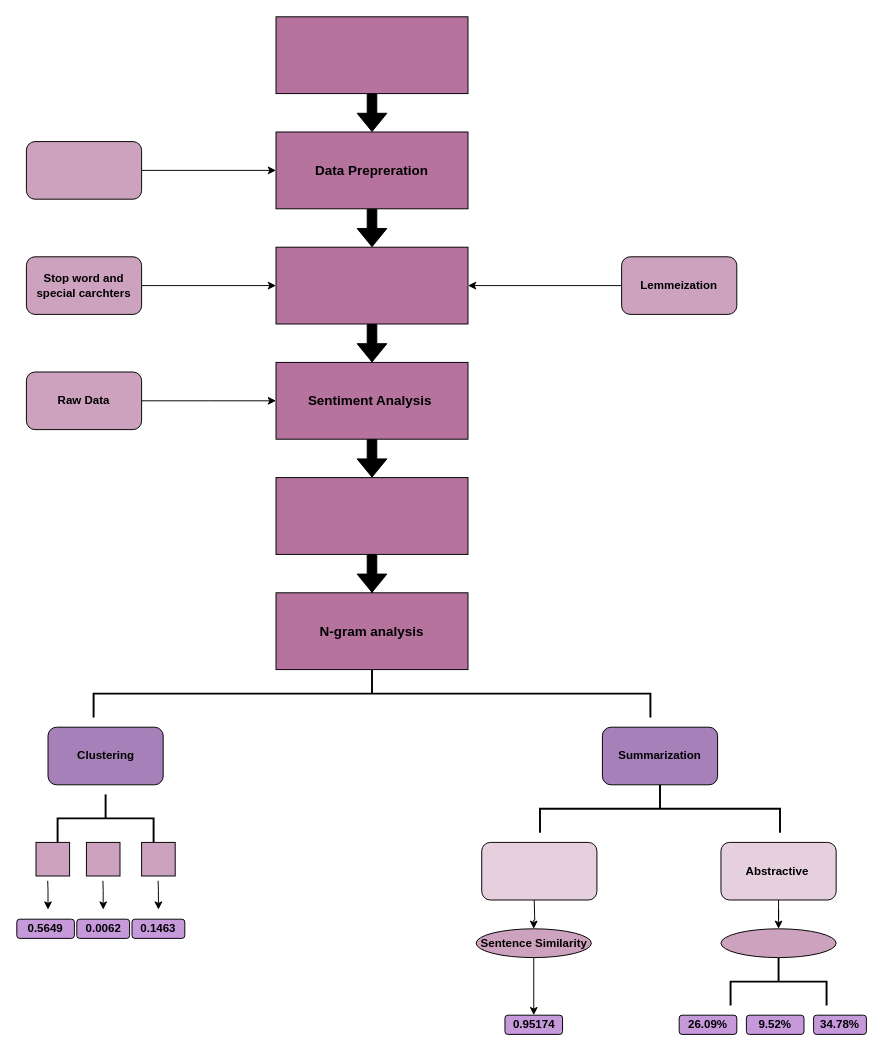
This 883x1051 diagram has some shape labels left out. The shapes that lost their labels are listed below. From the top down, each one's box as (x1, y1, x2, y2) in pixels, then its label:
(275, 16, 468, 94): Articles
(25, 141, 142, 199): URLS
(275, 246, 468, 324): Data Preprocessing
(275, 477, 468, 554): Topic Modeling
(35, 841, 70, 876): W2V
(85, 841, 120, 876): TFIDF
(141, 841, 175, 876): BOW
(481, 841, 597, 900): Extractive
(720, 928, 836, 958): ROUGE
